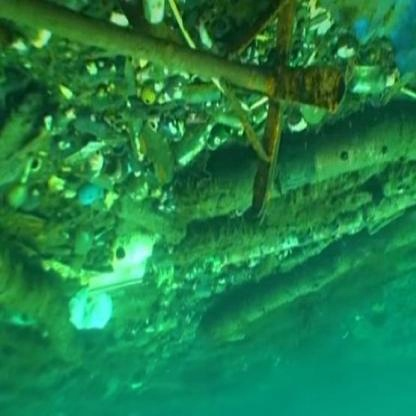rod: (49, 12, 320, 149), (147, 252, 402, 346), (188, 139, 416, 199)
